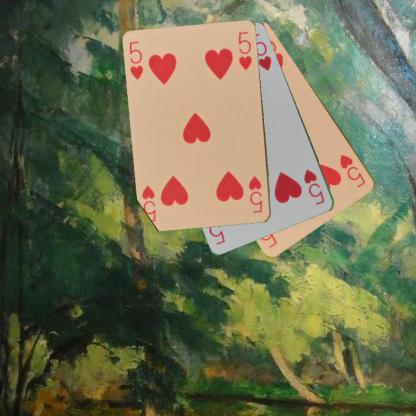5h: (337, 152, 367, 190), (301, 166, 326, 207), (127, 39, 146, 81), (246, 174, 264, 214)
